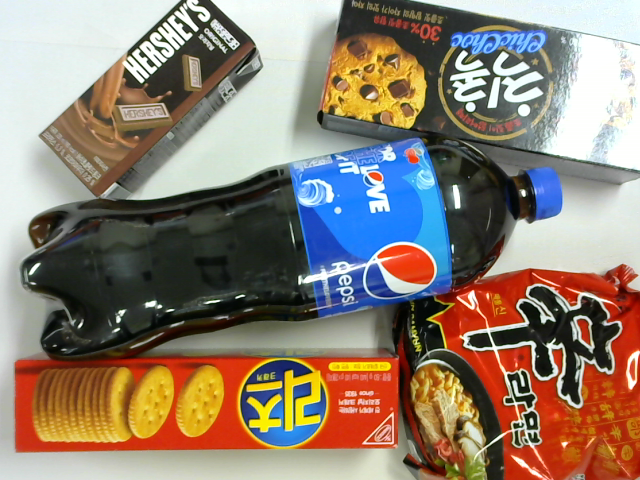Chicchok_Original_2400: (341, 5, 640, 141)
Hush_Choco_Drink: (43, 15, 273, 195)
Pepsi_Cola_1.5L: (26, 144, 553, 341)
Ritz_Cracker: (1, 337, 402, 462)
Sinramen: (379, 281, 627, 466)
